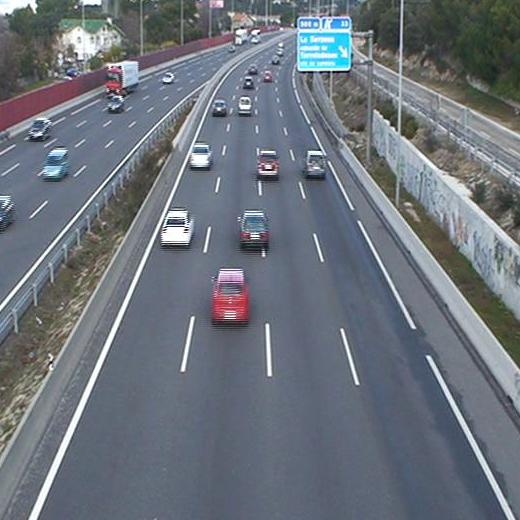car: (213, 269, 247, 324), (161, 209, 193, 243), (241, 212, 268, 248), (305, 149, 327, 178), (188, 143, 212, 168), (257, 151, 279, 176), (238, 96, 252, 115), (212, 99, 226, 116), (247, 63, 258, 77), (242, 76, 254, 88), (263, 71, 273, 82)
